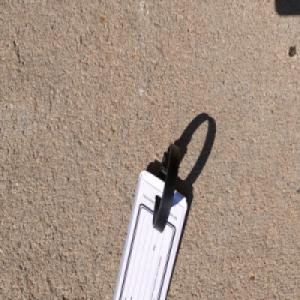LuggageTag: (111, 139, 189, 300)
